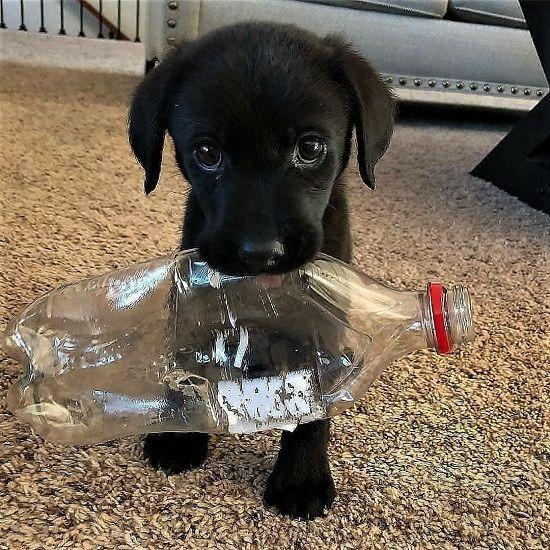puppy-dog: (125, 21, 396, 519)
